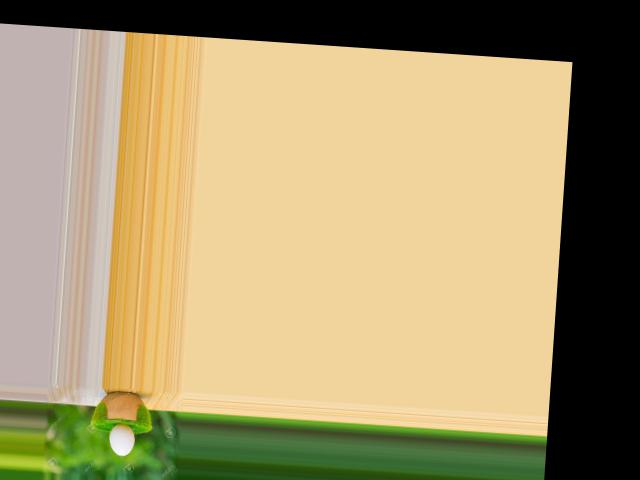egg: (107, 422, 134, 455)
